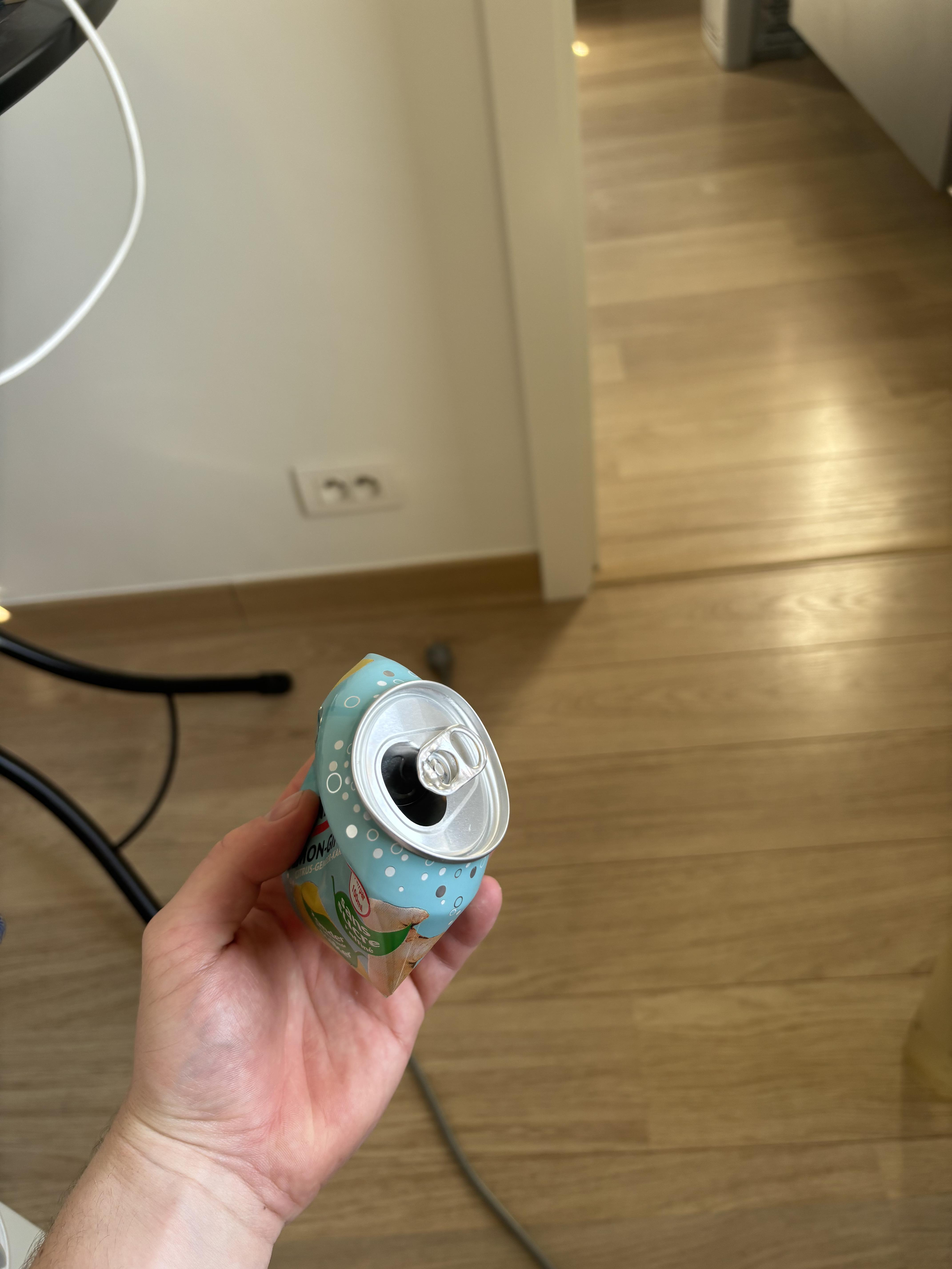Metal: (284, 662, 501, 999)
